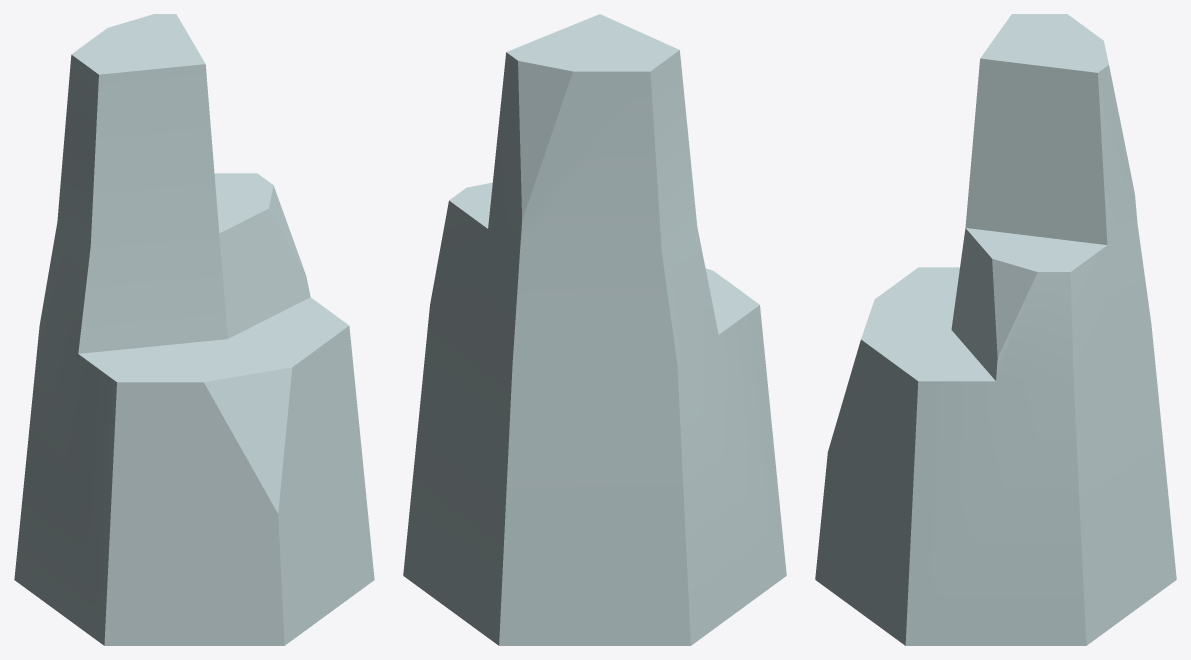
File: stone_tall7.glb
The picture shows the model from 3 angles, left to right: view 1: azimuth 30°, elevation 25°; view 2: azimuth 150°, elevation 25°; view 3: azimuth 270°, elevation 25°; orthographic projection. The views are drawn at different scales.
Visible parts, largest first — view 1: stone_tall7; view 2: stone_tall7; view 3: stone_tall7.
Part boxes in pixels (x1=…): stone_tall7: x1=14, y1=14, x2=374, y2=645; stone_tall7: x1=403, y1=14, x2=786, y2=645; stone_tall7: x1=815, y1=14, x2=1176, y2=645.
Bounding box in the file's own units: 0.4249 × 0.7829 × 0.4907.
